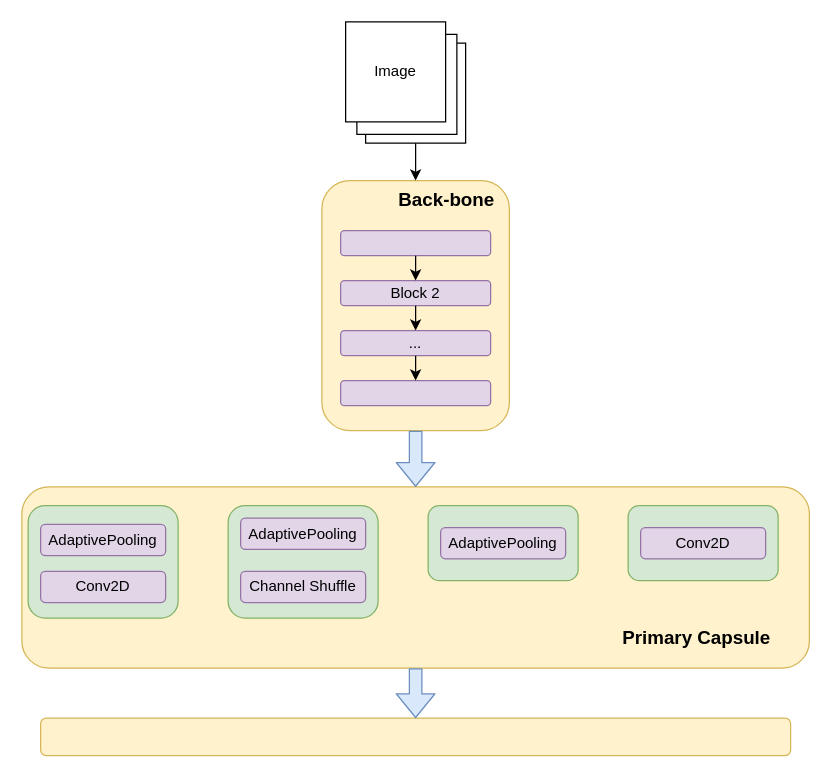
This 831x778 diagram has some shape labels left out. Each missing label, with the box of its shape:
Adaptive Capsule Routing: (39, 717, 791, 756)
Block 1: (339, 229, 491, 256)
Block n: (339, 379, 491, 406)
